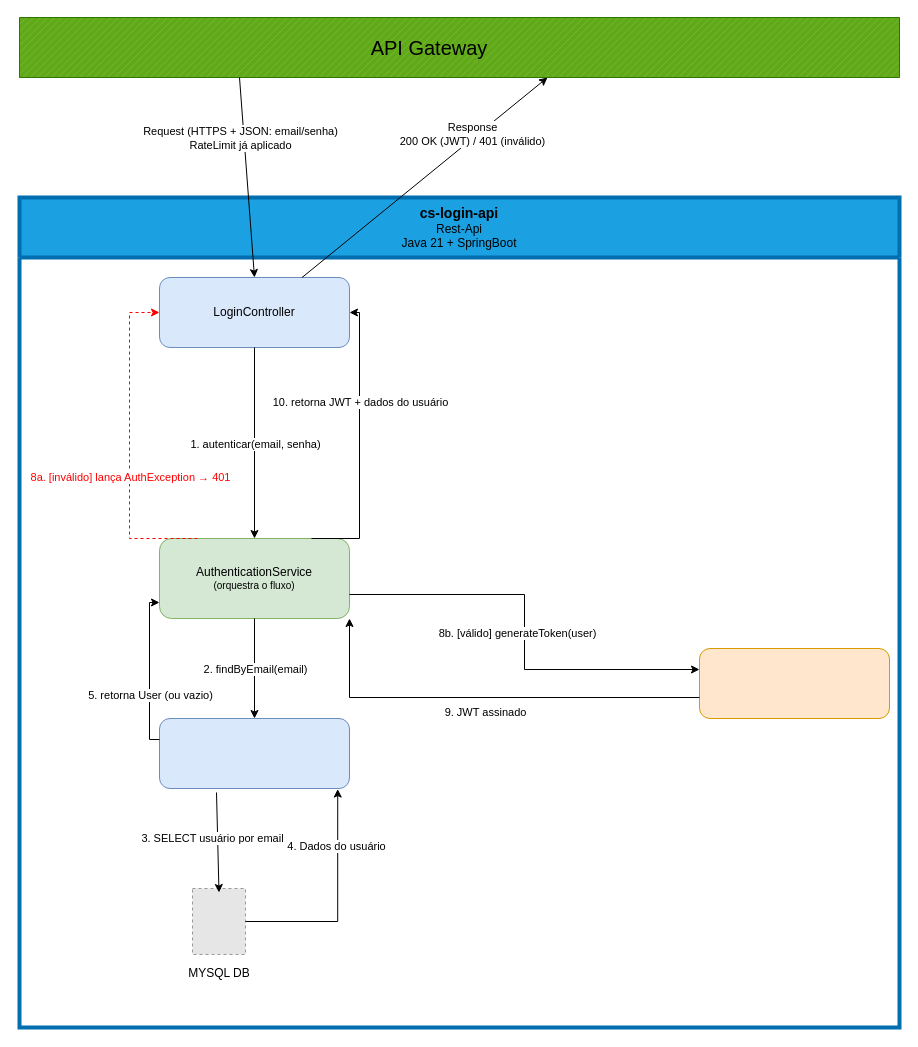
Image size: 918x1047. Some labels were removed from this diagram. Grey dashed boxes stand in for pictures. Here are the shapes that lost their labels. From the top down, the centre of each, then its label:
At pixel 794 683: "TokenService (gera e assina o JWT)".
At pixel 254 753: "UserRepository".
